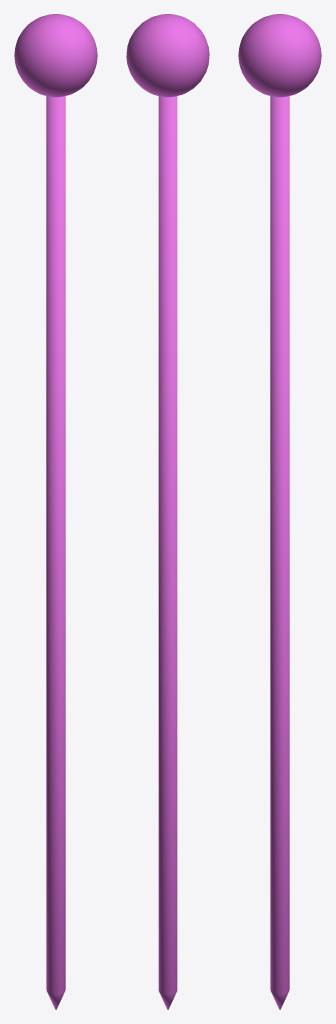
Rendered from PinForestTreecoloured.fbx.
The picture shows the model from 3 angles, left to right: view 1: azimuth 90°, elevation 25°; view 2: azimuth 150°, elevation 25°; view 3: azimuth 270°, elevation 25°; orthographic projection.
Visible parts, largest first — view 1: Cylinder; view 2: Cylinder; view 3: Cylinder.
Boxes of the visible parts, x1,y1,x2,y2 form: Cylinder: (14,14,97,1009); Cylinder: (126,14,209,1009); Cylinder: (238,14,321,1009).
Bounding box in the file's own units: 67.62 × 888 × 67.62.
